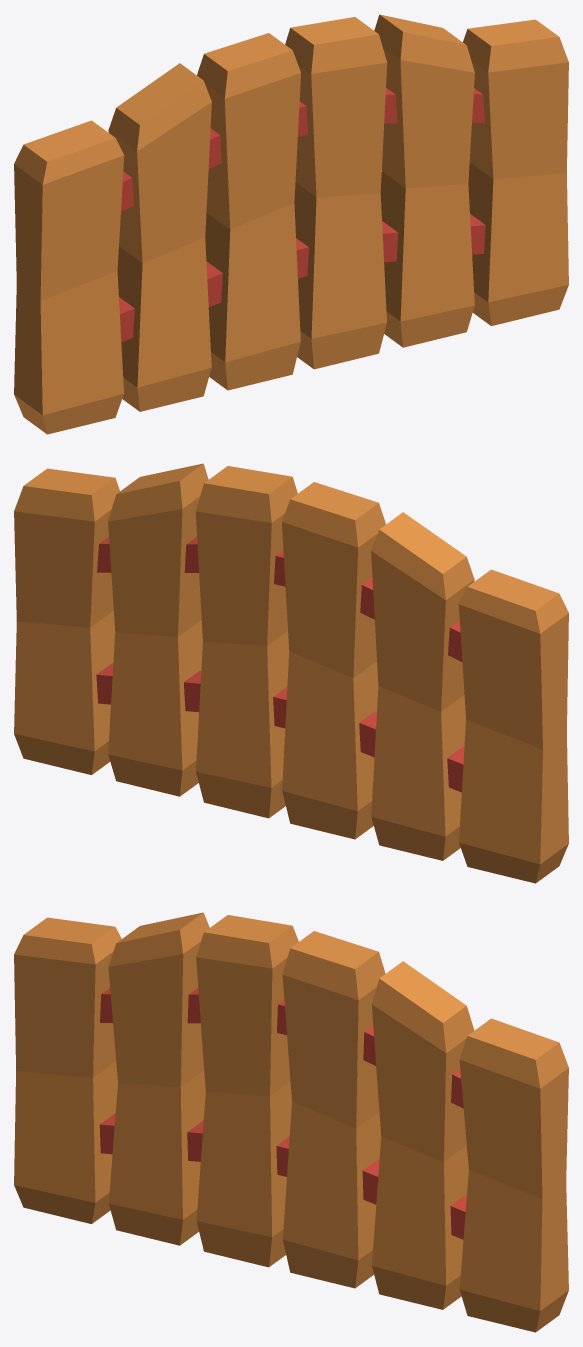
Rendered from FenceDoor.fbx.
The picture shows the model from 3 angles, top to bottom: view 1: azimuth 30°, elevation 25°; view 2: azimuth 150°, elevation 25°; view 3: azimuth 330°, elevation 25°; orthographic projection.
Parts seen in each view (by area): view 1: Cube.005; view 2: Cube.005; view 3: Cube.005.
Boxes of the visible parts, x1,y1,x2,y2 form: Cube.005: [14, 14, 568, 434]; Cube.005: [14, 463, 568, 883]; Cube.005: [14, 912, 568, 1332].
Bounding box in the file's own units: 1328 × 782 × 125.
